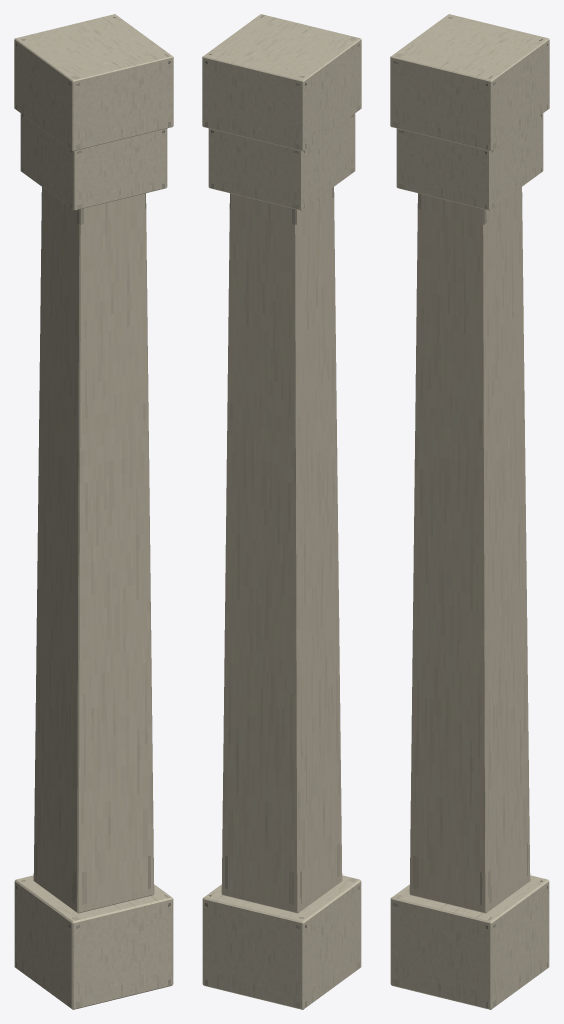
Rendered from porch_post.glb.
3 renders of one model, left to right at view 1: azimuth 30°, elevation 25°; view 2: azimuth 150°, elevation 25°; view 3: azimuth 330°, elevation 25°, orthographic.
Parts seen in each view (by area): view 1: porch_post; view 2: porch_post; view 3: porch_post.
Boxes of the visible parts, box(x1,y1,x2,y2) form: porch_post: box(14, 14, 173, 1009); porch_post: box(202, 14, 361, 1009); porch_post: box(390, 14, 549, 1009).
Size of the model in its own units: 0.12 by 1.05 by 0.12.
Materials: 2 (2 with a texture image).
